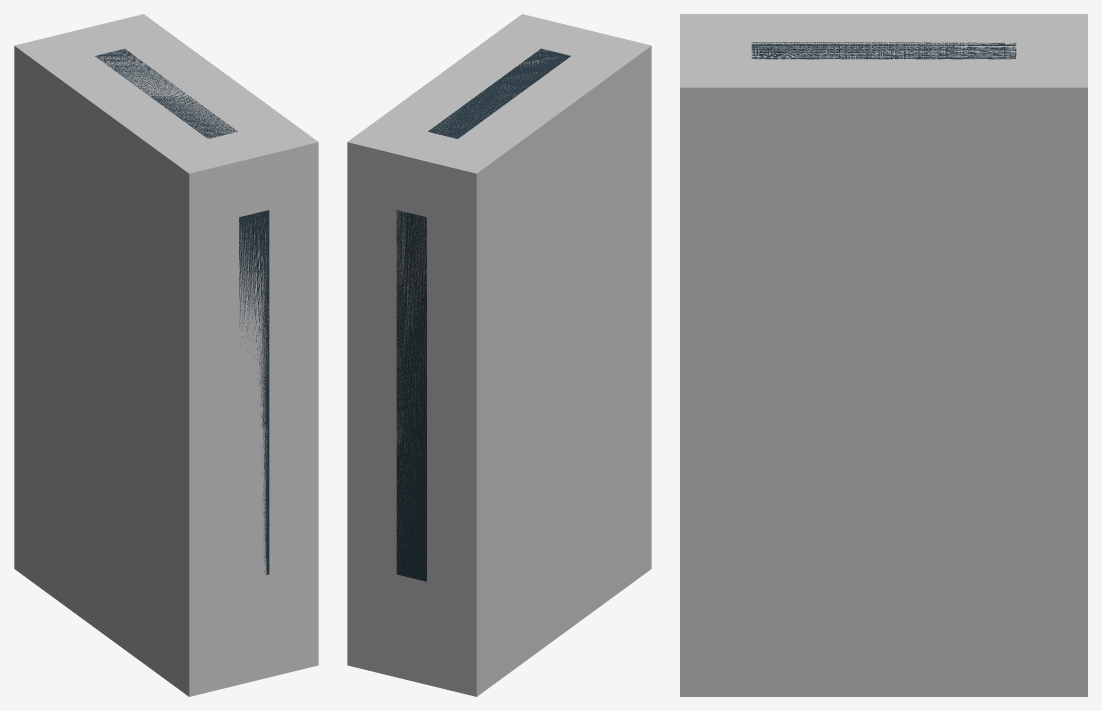
Rendered from SM_Billboard_14.fbx.
3 renders of one model, left to right at view 1: azimuth 30°, elevation 25°; view 2: azimuth 150°, elevation 25°; view 3: azimuth 270°, elevation 25°, orthographic. The views are drawn at different scales.
Parts seen in each view (by area): view 1: SM_Billboard_14_ConvexHulls, SM_Billboard_14; view 2: SM_Billboard_14_ConvexHulls, SM_Billboard_14; view 3: SM_Billboard_14_ConvexHulls, SM_Billboard_14.
Part boxes in pixels (left/top/right/bottom): SM_Billboard_14_ConvexHulls: left=14, top=14, right=318, bottom=696; SM_Billboard_14: left=95, top=48, right=269, bottom=574; SM_Billboard_14_ConvexHulls: left=347, top=14, right=651, bottom=696; SM_Billboard_14: left=396, top=48, right=570, bottom=581; SM_Billboard_14_ConvexHulls: left=680, top=14, right=1087, bottom=696; SM_Billboard_14: left=751, top=42, right=1016, bottom=59.
Bounding box in the file's own units: 85.46 × 200 × 330.
2 materials, 1 textured.
